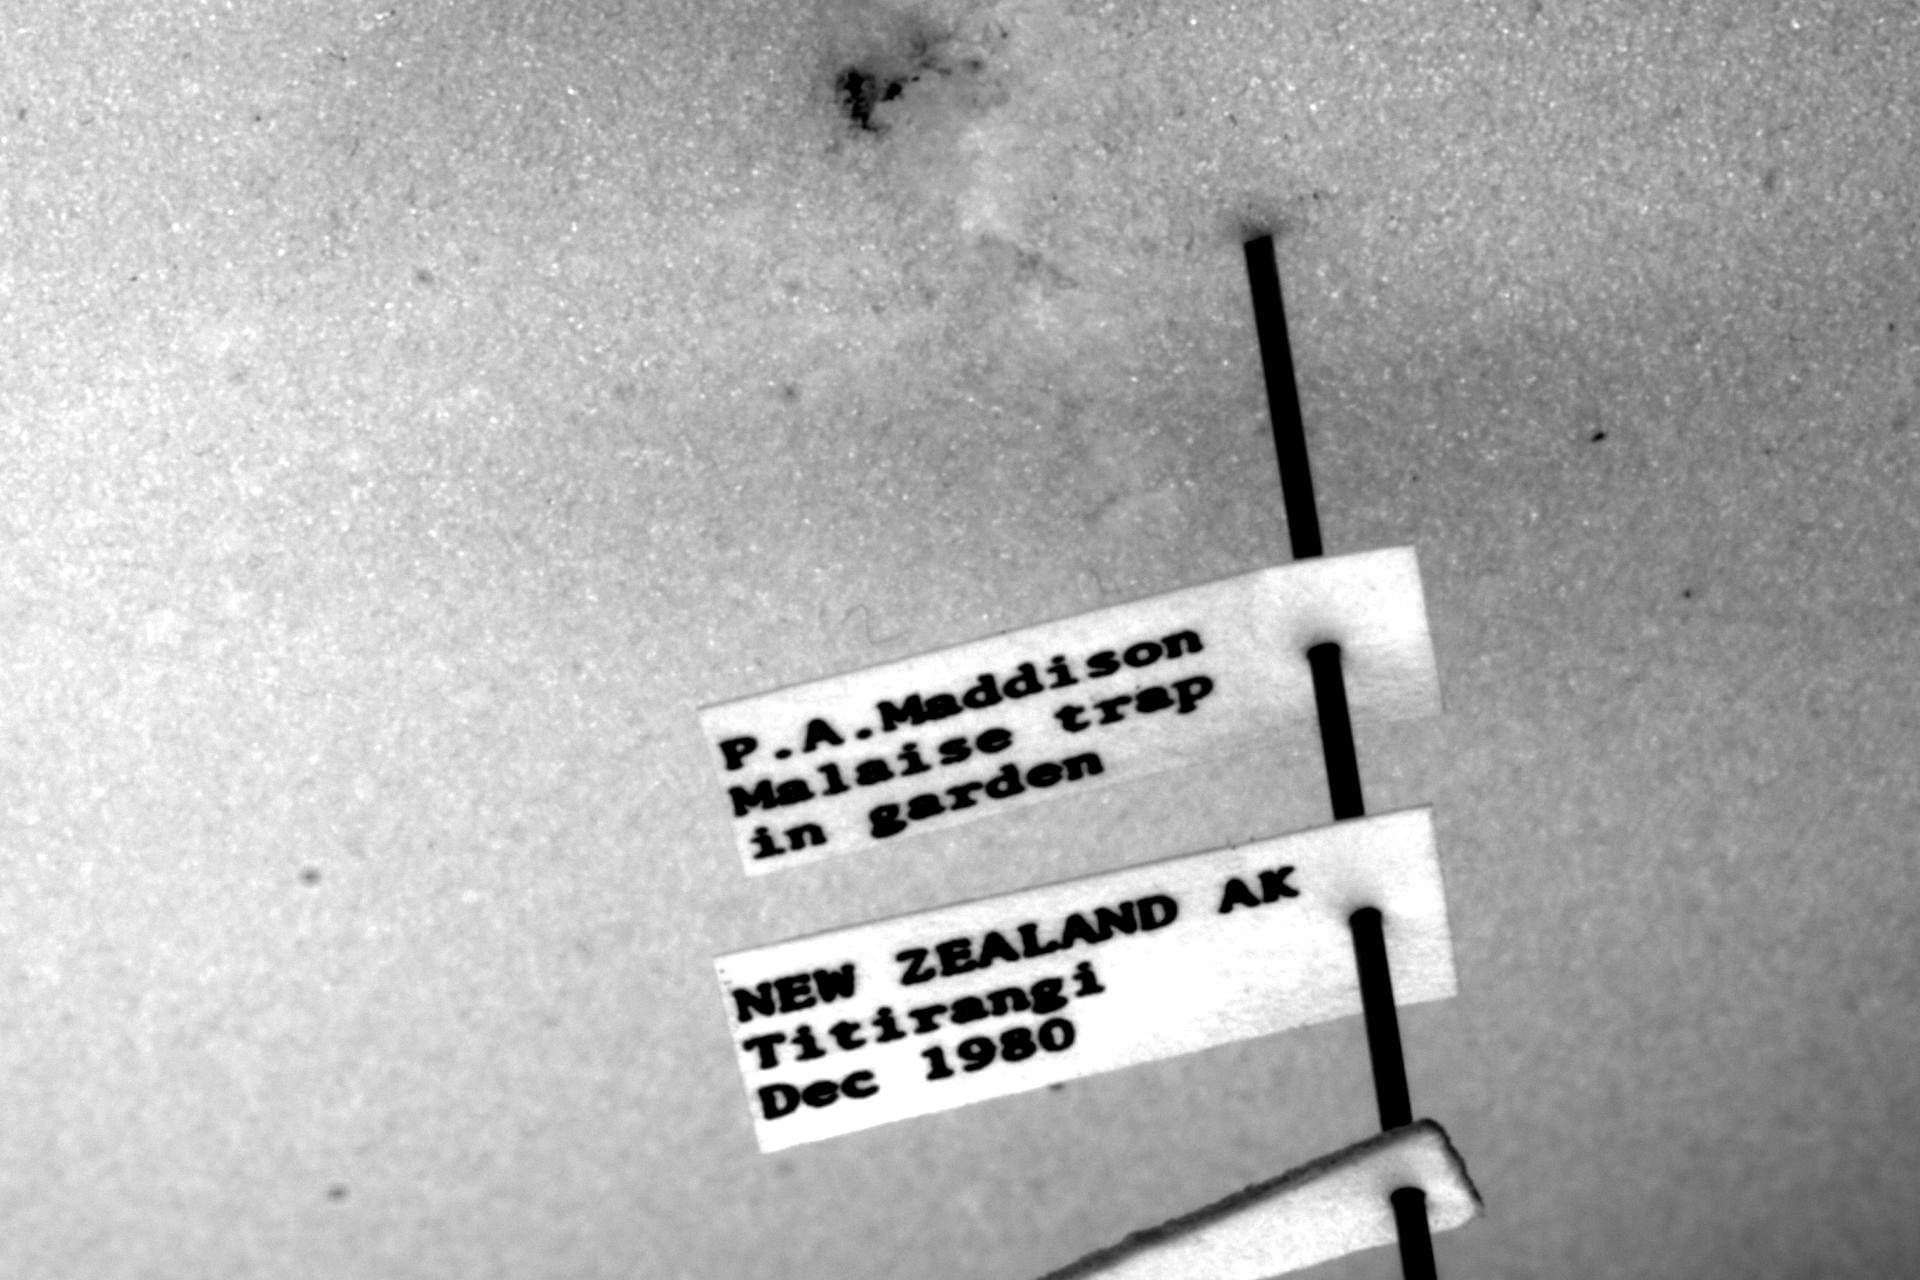typed_label: (716, 810, 1454, 1151), (701, 547, 1440, 874)
